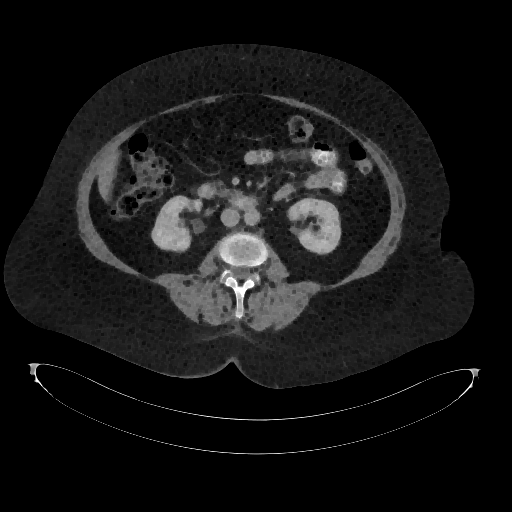Lesion: (318, 216, 326, 224)
